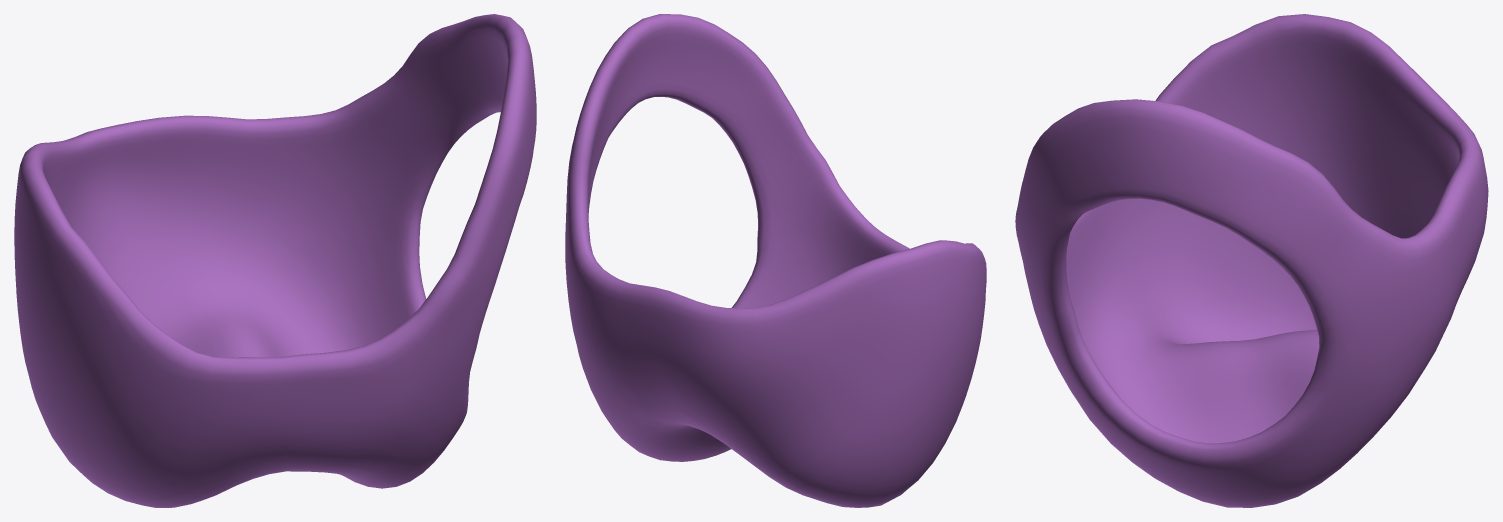
File: TR5_Frame_Classic.001.glb
3 views of the same model, side by side, from view 1: azimuth 30°, elevation 25°; view 2: azimuth 150°, elevation 25°; view 3: azimuth 270°, elevation 25° (orthographic). The views are drawn at different scales.
Parts seen in each view (by area): view 1: TR5_Frame_Classic.001; view 2: TR5_Frame_Classic.001; view 3: TR5_Frame_Classic.001.
Boxes of the visible parts, box(x1,y1,x2,y2) form: TR5_Frame_Classic.001: box(14, 14, 536, 507); TR5_Frame_Classic.001: box(565, 14, 986, 507); TR5_Frame_Classic.001: box(1015, 14, 1488, 507).
Size of the model in its own units: 0.8927 by 0.8629 by 0.8266.
